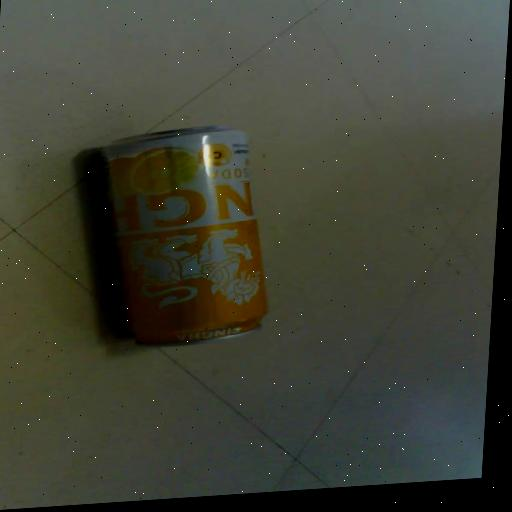canned: (64, 108, 290, 367)
